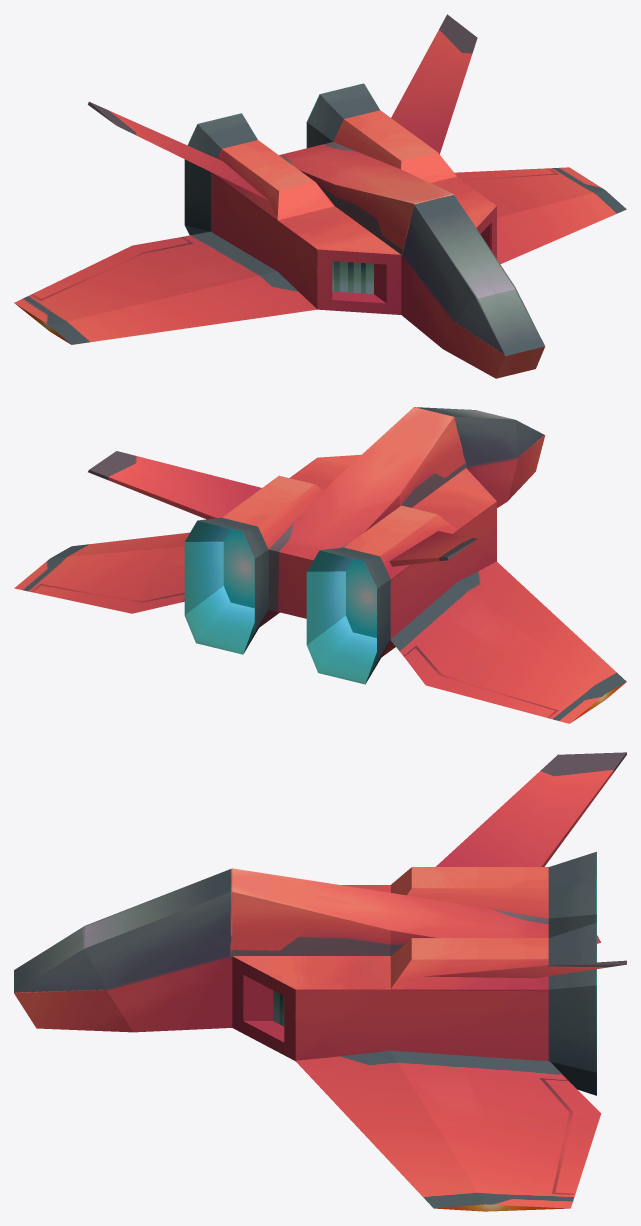
The model's file is lpSpaceShip.obj.
The picture shows the model from 3 angles, top to bottom: view 1: azimuth 30°, elevation 25°; view 2: azimuth 150°, elevation 25°; view 3: azimuth 270°, elevation 25°; orthographic projection. The views are drawn at different scales.
Parts seen in each view (by area): view 1: ship_Cube.001; view 2: ship_Cube.001; view 3: ship_Cube.001.
Boxes of the visible parts, bbox=[...] form: ship_Cube.001: bbox=[14, 14, 626, 378]; ship_Cube.001: bbox=[14, 407, 626, 723]; ship_Cube.001: bbox=[14, 752, 626, 1211].
Size of the model in its own units: 4.83 by 1.35 by 3.87.
1 material, 1 textured.
